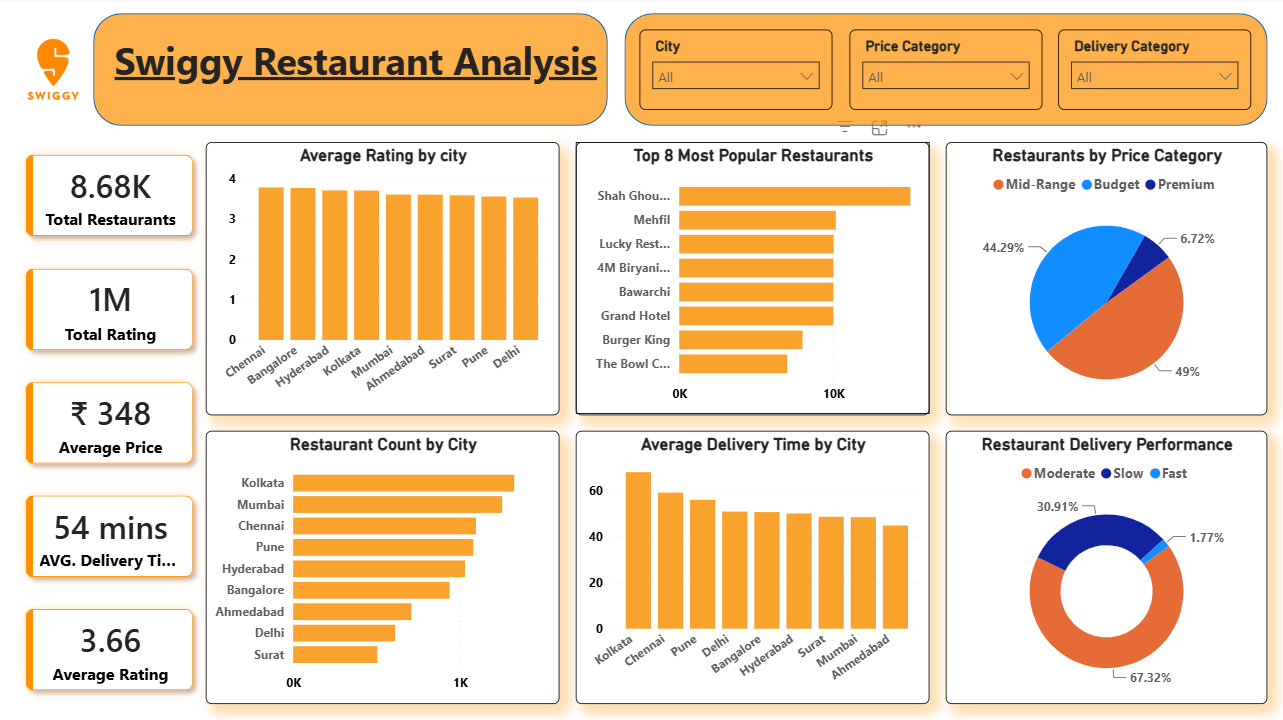

The dashboard page shown, as its layout file describes it:
{"tool":"powerbi","page":{"name":"Page 1","canvas":[1280,720],"ordinal":0},"visuals":[{"type":"shape","box":[96,16,512,112],"z":0},{"type":"textbox","box":[112,32,496,96],"z":1000},{"type":"cardVisual","fields":{"Data":["Count(swiggy_project swiggy_data.id)","Sum(swiggy_project swiggy_data.rating_count)","Avg(swiggy_project swiggy_data.price)","Avg(swiggy_project swiggy_data.delivery_time)","Avg(swiggy_project swiggy_data.rating)"]},"box":[0,128,224,592],"z":2000},{"type":"clusteredColumnChart","title":"Average Rating by city","fields":{"Category":["swiggy_project swiggy_data.city"],"Y":["Avg(swiggy_project swiggy_data.rating)"]},"box":[208,144,352,272],"z":3000},{"type":"clusteredBarChart","title":"Restaurant Count by City","fields":{"Category":["swiggy_project swiggy_data.city"],"Y":["Count(swiggy_project swiggy_data.restaurant)"]},"box":[208,432,352,272],"z":4000},{"type":"clusteredColumnChart","title":"Average Delivery Time by City","fields":{"Category":["swiggy_project swiggy_data.city"],"Y":["Avg(swiggy_project swiggy_data.delivery_time)"]},"box":[576,432,352,272],"z":5000},{"type":"donutChart","title":"Restaurant Delivery Performance","fields":{"Category":["swiggy_project .Delivery Category"],"Y":["CountNonNull(swiggy_project .restaurant)"]},"box":[944,432,320,272],"z":6000},{"type":"pieChart","title":"Restaurants by Price Category","fields":{"Category":["swiggy_project .Price Category"],"Y":["CountNonNull(swiggy_project .restaurant)"]},"box":[944,144,320,272],"z":7000},{"type":"clusteredBarChart","title":"Top 8 Most Popular Restaurants","fields":{"Category":["swiggy_project .restaurant"],"Y":["Sum(swiggy_project .rating_count)"]},"box":[576,144,352,272],"z":8000},{"type":"shape","box":[624,16,640,112],"z":9000},{"type":"slicer","fields":{"Values":["swiggy_project .city"]},"box":[640,32,192,80],"z":10000},{"type":"slicer","fields":{"Values":["swiggy_project .Price Category"]},"box":[848,32,192,80],"z":11000},{"type":"slicer","fields":{"Values":["swiggy_project .Delivery Category"]},"box":[1056,32,192,80],"z":12000},{"type":"image","box":[0,0,112,144],"z":13000}]}

Visuals, with their boxes in screenshot pixels (x1, y1, x2, y2), scaled from the page's 1280x720 canvas onto the 1283x720 screenshot:
shape: bbox=[96, 16, 609, 128]
textbox: bbox=[112, 32, 609, 128]
cardVisual - Count(swiggy_project swiggy_data.id) x Sum(swiggy_project swiggy_data.rating_count): bbox=[0, 128, 225, 719]
"Average Rating by city" clusteredColumnChart: bbox=[208, 144, 561, 416]
"Restaurant Count by City" clusteredBarChart: bbox=[208, 432, 561, 704]
"Average Delivery Time by City" clusteredColumnChart: bbox=[577, 432, 930, 704]
"Restaurant Delivery Performance" donutChart: bbox=[946, 432, 1267, 704]
"Restaurants by Price Category" pieChart: bbox=[946, 144, 1267, 416]
"Top 8 Most Popular Restaurants" clusteredBarChart: bbox=[577, 144, 930, 416]
shape: bbox=[625, 16, 1267, 128]
slicer - swiggy_project .city: bbox=[642, 32, 834, 112]
slicer - swiggy_project .Price Category: bbox=[850, 32, 1042, 112]
slicer - swiggy_project .Delivery Category: bbox=[1058, 32, 1251, 112]
image: bbox=[0, 0, 112, 144]
